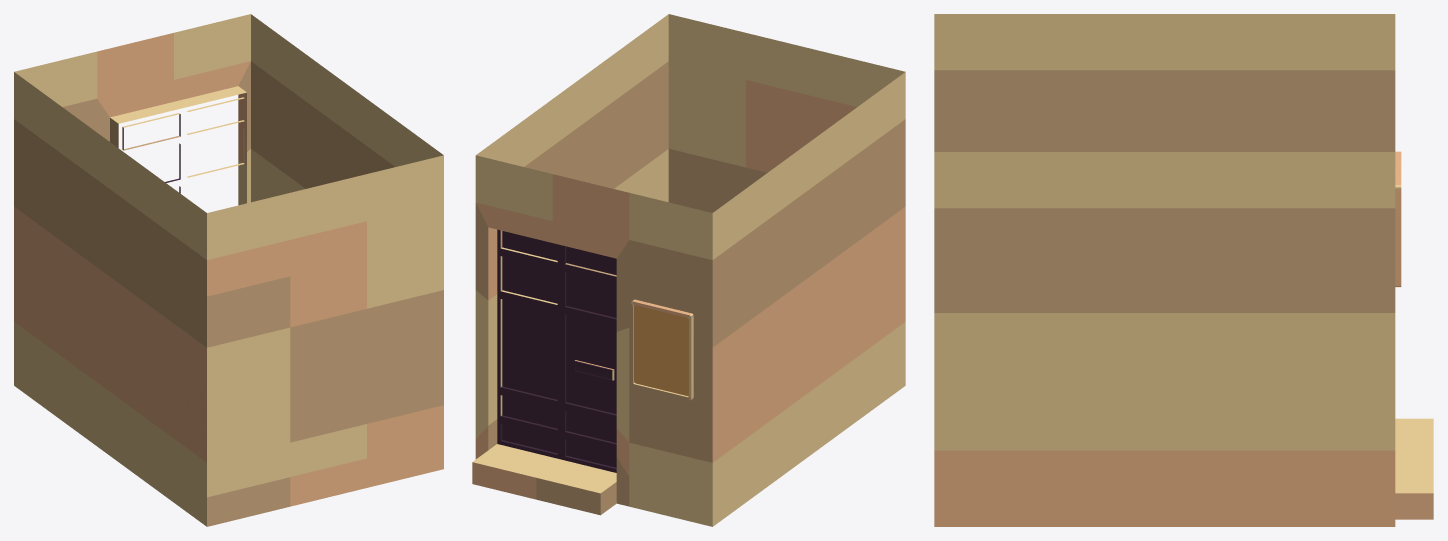
Rendered from house_door.fbx.
3 renders of one model, left to right at view 1: azimuth 30°, elevation 25°; view 2: azimuth 150°, elevation 25°; view 3: azimuth 270°, elevation 25°, orthographic. The views are drawn at different scales.
Visible parts, largest first — view 1: polySurface2; view 2: polySurface2, pCube5; view 3: polySurface2, pCube5.
Boxes of the visible parts, x1,y1,x2,y2 form: polySurface2: [14, 14, 443, 526]; polySurface2: [472, 14, 905, 526]; pCube5: [631, 299, 693, 400]; polySurface2: [934, 14, 1433, 526]; pCube5: [1395, 151, 1401, 287].
Size of the model in its own units: 3.92 by 4.97 by 6.
